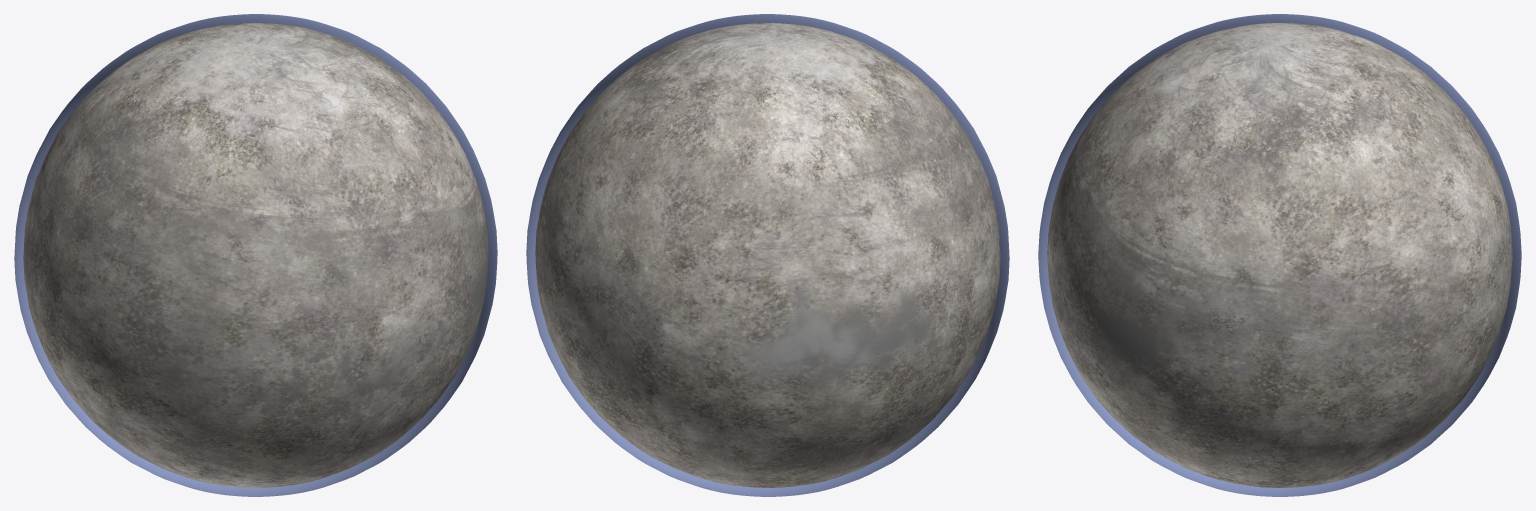
Rendered from sedna.glb.
3 renders of one model, left to right at view 1: azimuth 30°, elevation 25°; view 2: azimuth 150°, elevation 25°; view 3: azimuth 270°, elevation 25°, orthographic.
Visible parts, largest first — view 1: Sedna, Sedna_Atmo; view 2: Sedna, Sedna_Atmo; view 3: Sedna, Sedna_Atmo.
Part boxes in pixels (<box>): Sedna: <box>23,23,488,487</box>; Sedna_Atmo: <box>14,14,497,496</box>; Sedna: <box>535,23,1000,487</box>; Sedna_Atmo: <box>526,14,1009,496</box>; Sedna: <box>1047,23,1512,487</box>; Sedna_Atmo: <box>1038,14,1521,496</box>.
Size of the model in its own units: 10.39 by 10.39 by 10.39.
2 materials, 1 textured.
